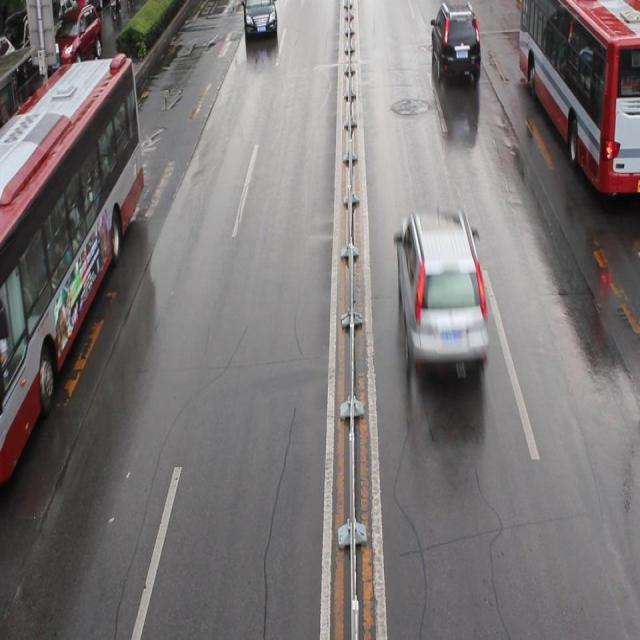car: (396, 213, 486, 369), (430, 1, 480, 78), (48, 9, 103, 70), (242, 1, 276, 40)
van: (1, 56, 143, 483), (519, 1, 640, 197)
